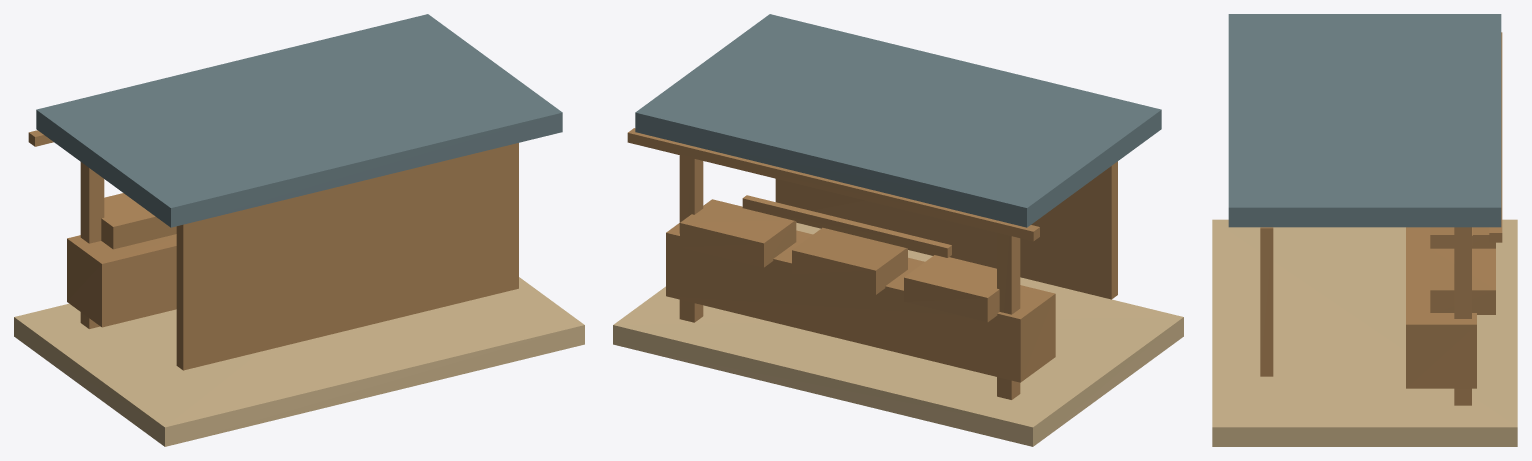
File: produce-stall.source.glb
3 renders of one model, left to right at view 1: azimuth 30°, elevation 25°; view 2: azimuth 150°, elevation 25°; view 3: azimuth 270°, elevation 25°, orthographic.
Parts seen in each view (by area): view 1: produce-stall-roof-mesh, produce-stall-back-wall-mesh, produce-stall-foundation-mesh, produce-stall-counter-mesh, produce-stall-empty-crate--1.2-mesh, produce-stall-post--1.7-mesh; view 2: produce-stall-roof-mesh, produce-stall-foundation-mesh, produce-stall-counter-mesh, produce-stall-back-wall-mesh, produce-stall-empty-crate-1.2-mesh, produce-stall-empty-crate-0-mesh, produce-stall-teal-fascia-mesh, produce-stall-empty-crate--1.2-mesh, produce-stall-empty-shelf-mesh, produce-stall-post--1.7-mesh, produce-stall-post-1.7-mesh; view 3: produce-stall-roof-mesh, produce-stall-foundation-mesh, produce-stall-counter-mesh, produce-stall-empty-crate-1.2-mesh, produce-stall-back-wall-mesh, produce-stall-post-1.7-mesh, produce-stall-empty-crate-0-mesh, produce-stall-teal-fascia-mesh.
Part boxes in pixels (bbox=[...]): produce-stall-roof-mesh: bbox=[36, 14, 562, 227]; produce-stall-back-wall-mesh: bbox=[176, 143, 518, 370]; produce-stall-foundation-mesh: bbox=[14, 277, 584, 446]; produce-stall-counter-mesh: bbox=[67, 234, 176, 327]; produce-stall-empty-crate--1.2-mesh: bbox=[101, 193, 176, 249]; produce-stall-post--1.7-mesh: bbox=[80, 162, 104, 328]; produce-stall-roof-mesh: bbox=[635, 14, 1161, 227]; produce-stall-foundation-mesh: bbox=[613, 222, 1183, 446]; produce-stall-counter-mesh: bbox=[666, 223, 1055, 382]; produce-stall-back-wall-mesh: bbox=[775, 161, 1117, 299]; produce-stall-empty-crate-1.2-mesh: bbox=[680, 199, 796, 267]; produce-stall-empty-crate-0-mesh: bbox=[792, 227, 907, 294]; produce-stall-teal-fascia-mesh: bbox=[627, 128, 1039, 241]; produce-stall-empty-crate--1.2-mesh: bbox=[904, 255, 999, 322]; produce-stall-empty-shelf-mesh: bbox=[742, 195, 951, 257]; produce-stall-post--1.7-mesh: bbox=[997, 232, 1020, 399]; produce-stall-post-1.7-mesh: bbox=[679, 155, 703, 322]; produce-stall-roof-mesh: bbox=[1228, 14, 1501, 227]; produce-stall-foundation-mesh: bbox=[1212, 219, 1517, 446]; produce-stall-counter-mesh: bbox=[1406, 227, 1476, 388]; produce-stall-empty-crate-1.2-mesh: bbox=[1430, 248, 1495, 314]; produce-stall-back-wall-mesh: bbox=[1260, 227, 1273, 376]; produce-stall-post-1.7-mesh: bbox=[1454, 227, 1471, 405]; produce-stall-empty-crate-0-mesh: bbox=[1430, 227, 1495, 248]; produce-stall-teal-fascia-mesh: bbox=[1489, 32, 1502, 242].
Bounding box in the file's own units: 4.5 × 2.35 × 2.8.
